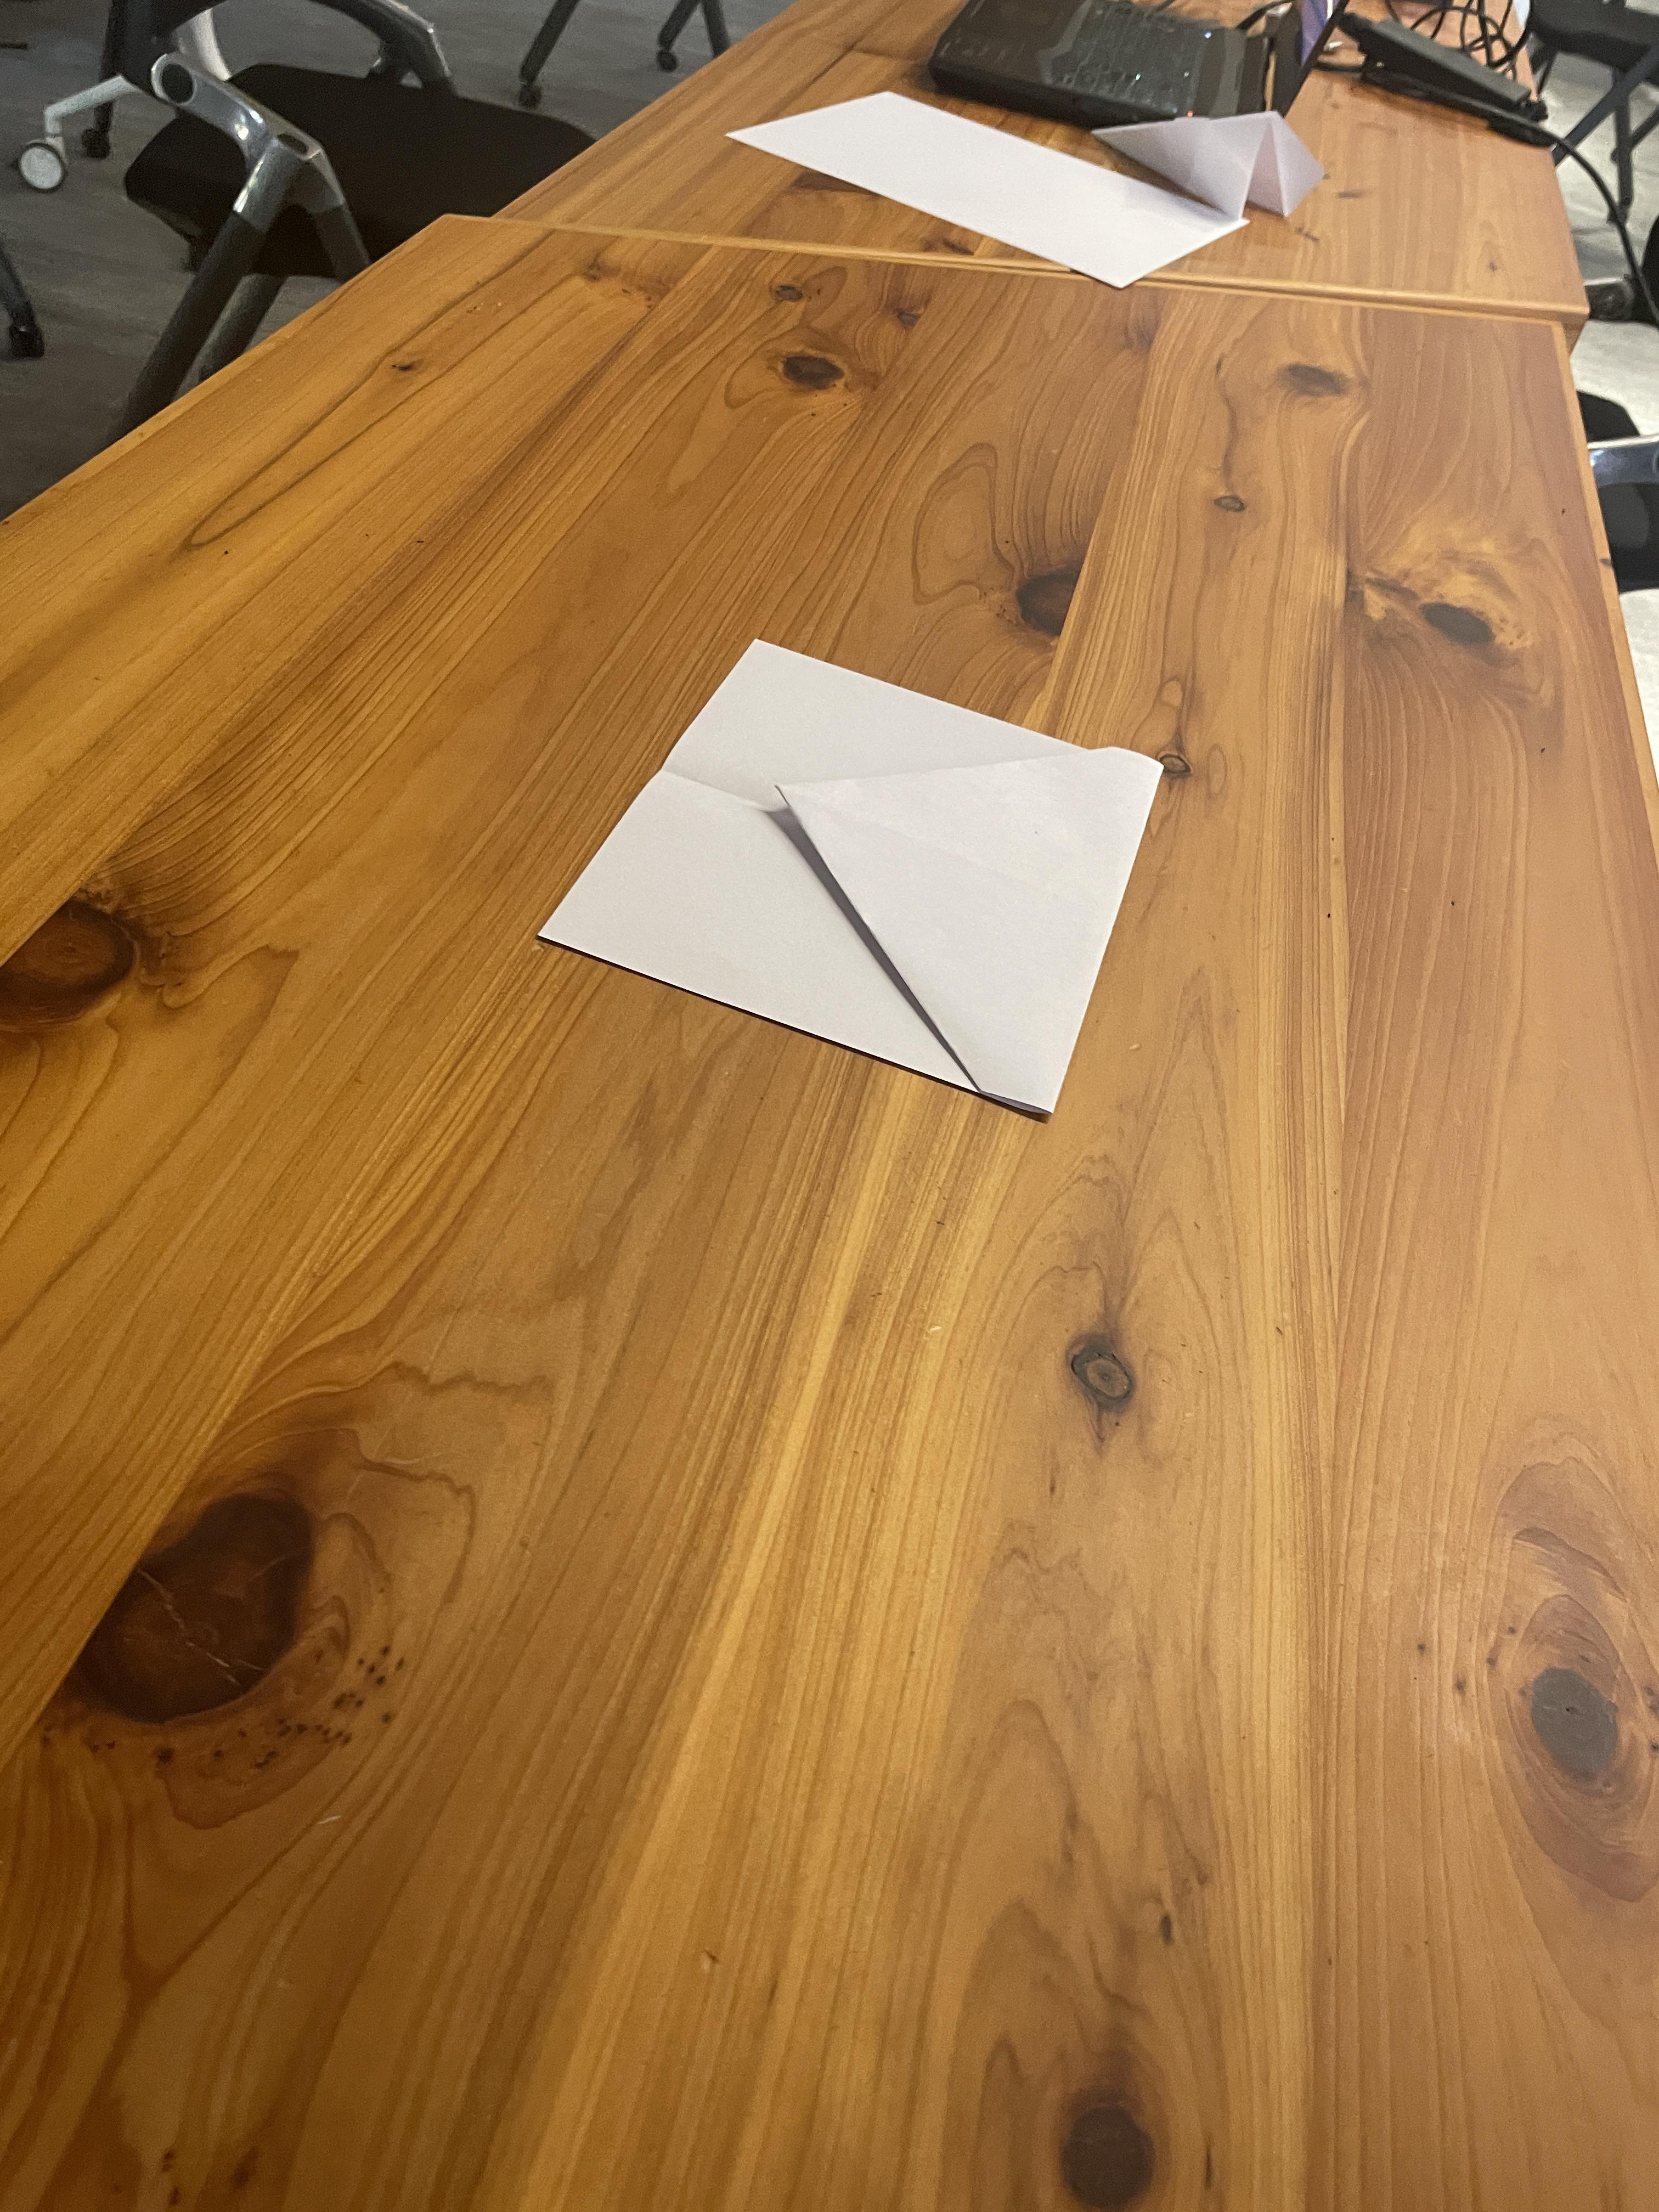shape_1: (467, 467, 1272, 1249)
